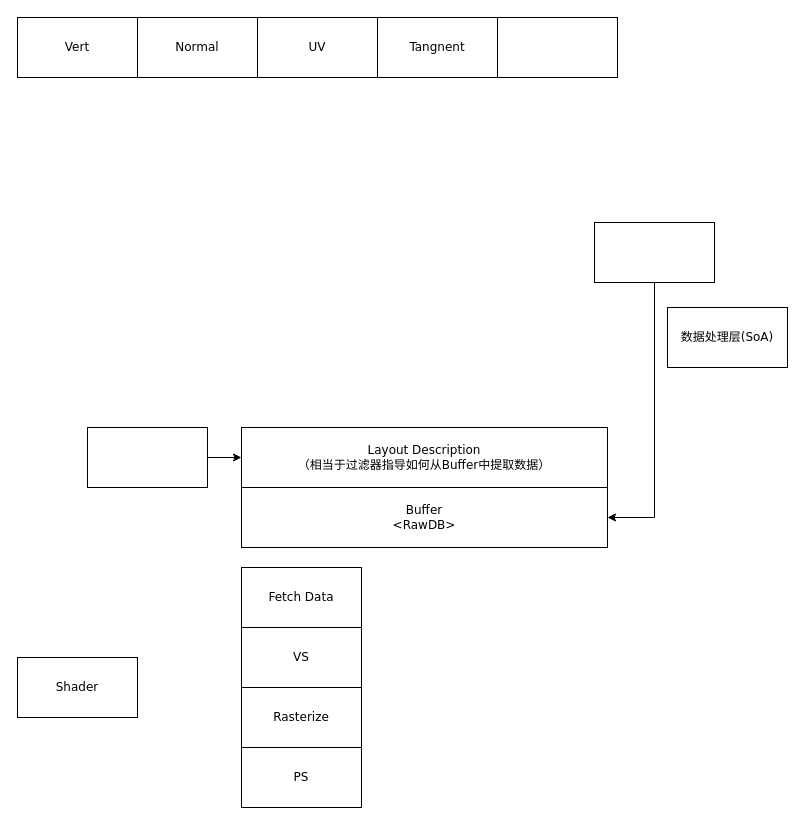
The diagram is 805 pixels wide and 825 high, and some of its shapes have lost their labels. Here are the shapes that lost their labels. From the top down, the centre of each, then its label:
At point (654, 252): "数据表示层(AoS)".
At point (147, 457): "数据定义层".
